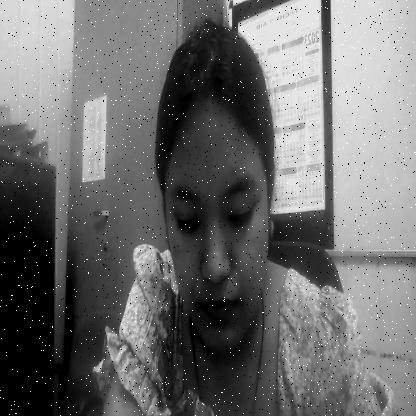Normal: (169, 102, 264, 346)
